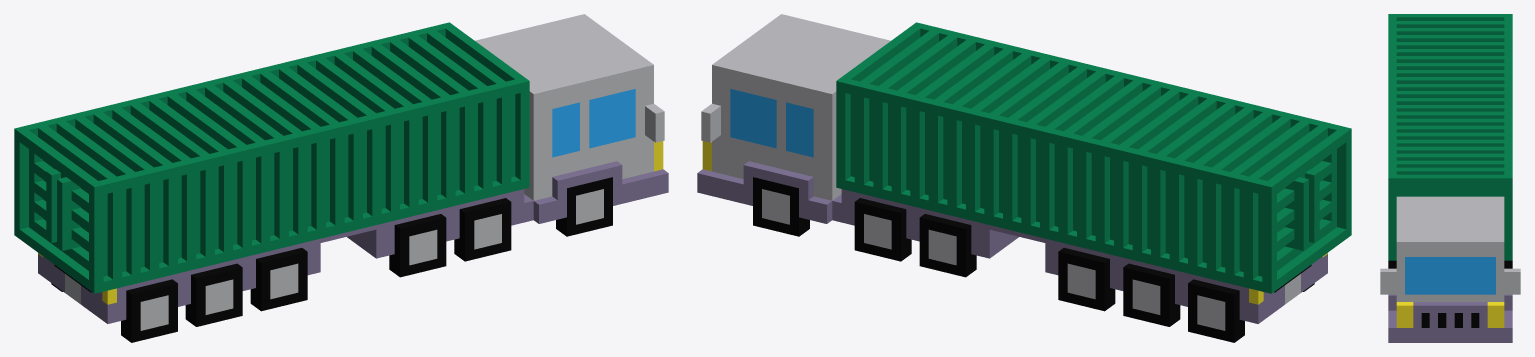
File: cargo_truck_b.obj
3 views of the same model, side by side, from view 1: azimuth 30°, elevation 25°; view 2: azimuth 150°, elevation 25°; view 3: azimuth 270°, elevation 25° (orthographic). The views are drawn at different scales.
Size of the model in its own units: 6.2 by 1.7 by 1.7.
1 material, 1 textured.
